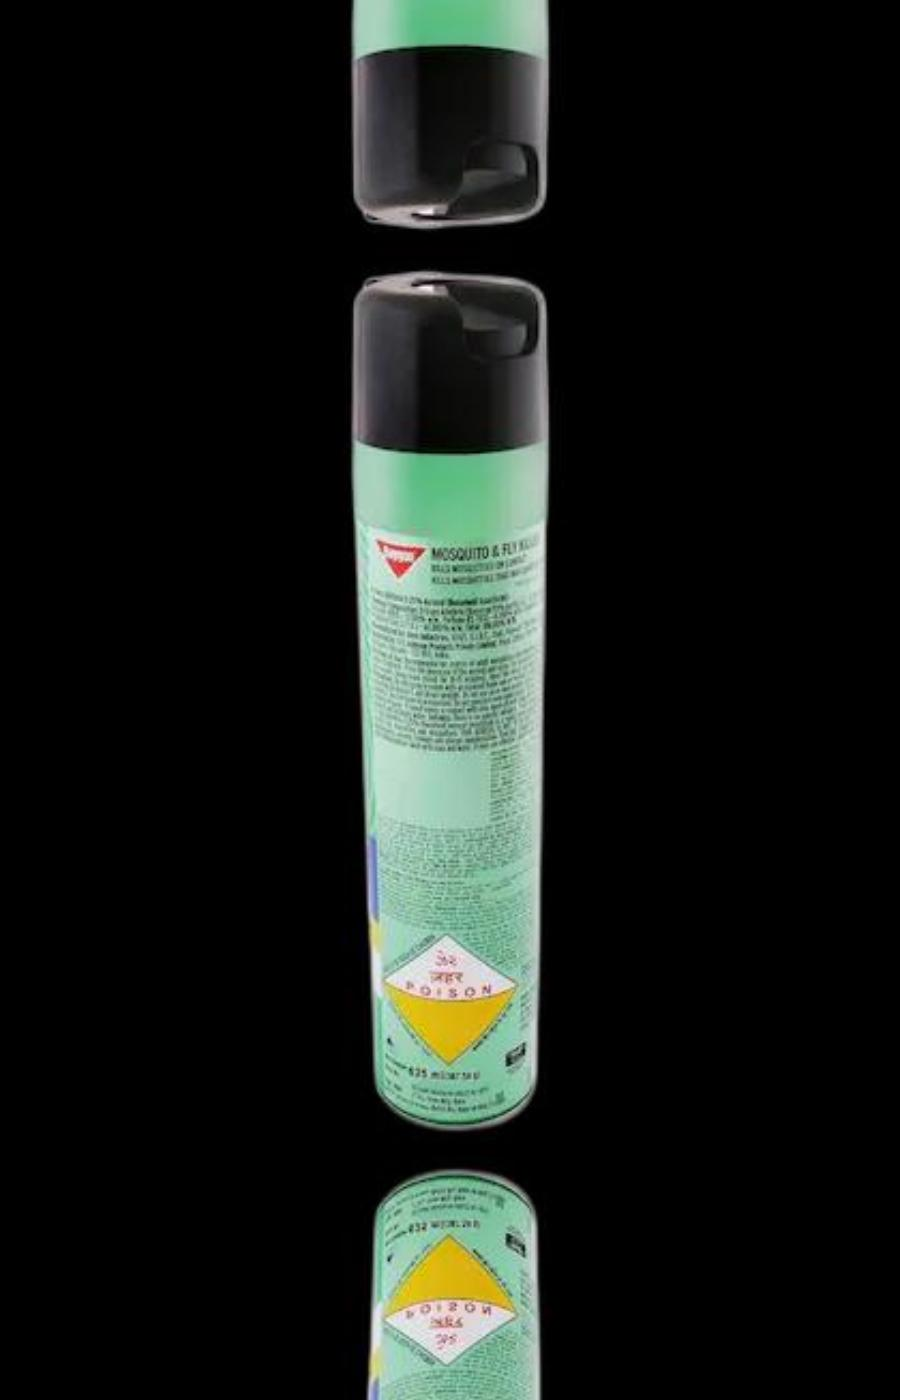Baygon Mosquito - Fly Killer Spray 625 ml: (347, 268, 551, 1134), (347, 1166, 551, 1400), (347, 0, 551, 231)
